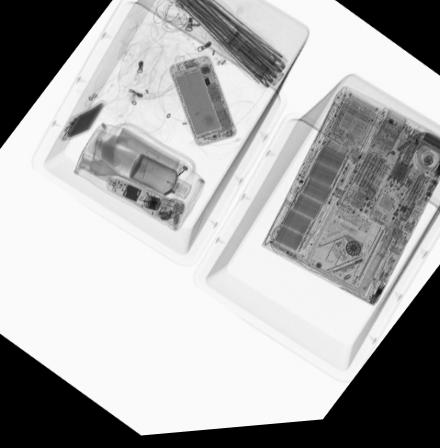Powerbank: (61, 100, 102, 138)
